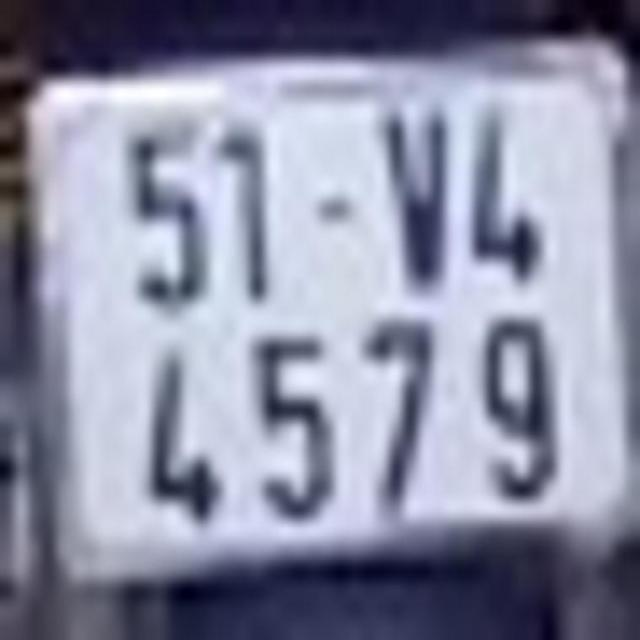1: (211, 126, 276, 316)
4: (146, 347, 225, 522), (468, 100, 542, 286)
5: (252, 333, 336, 518), (133, 130, 206, 316)
7: (364, 320, 432, 514)
9: (482, 316, 560, 503)
V: (381, 107, 448, 287)
